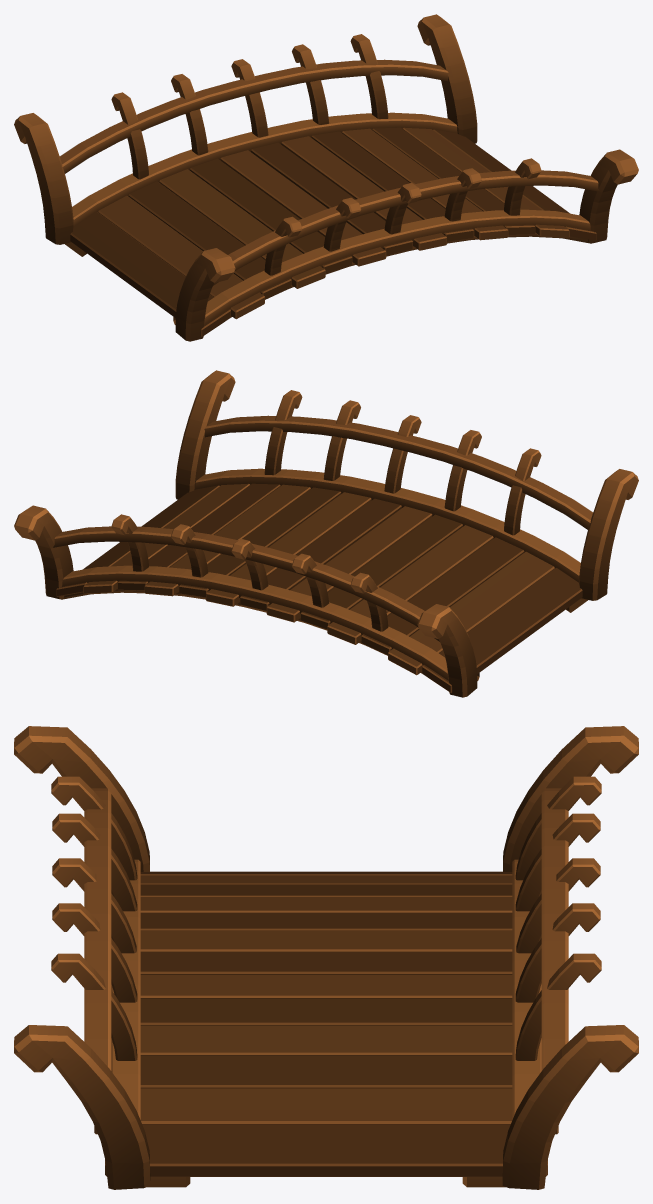
The model's file is Bridge-1.fbx.
3 views of the same model, one above another, from view 1: azimuth 30°, elevation 25°; view 2: azimuth 150°, elevation 25°; view 3: azimuth 270°, elevation 25° (orthographic). The views are drawn at different scales.
Visible parts, largest first — view 1: Bridge-1; view 2: Bridge-1; view 3: Bridge-1.
Boxes of the visible parts, <box> form: Bridge-1: <box>14,14,638,341</box>; Bridge-1: <box>14,370,638,697</box>; Bridge-1: <box>14,726,638,1189</box>.
Size of the model in its own units: 769 by 205 by 649.
